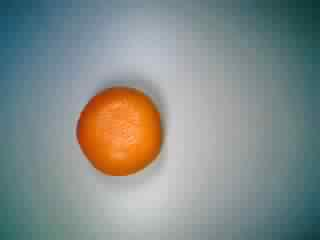orange: (69, 80, 171, 176)
